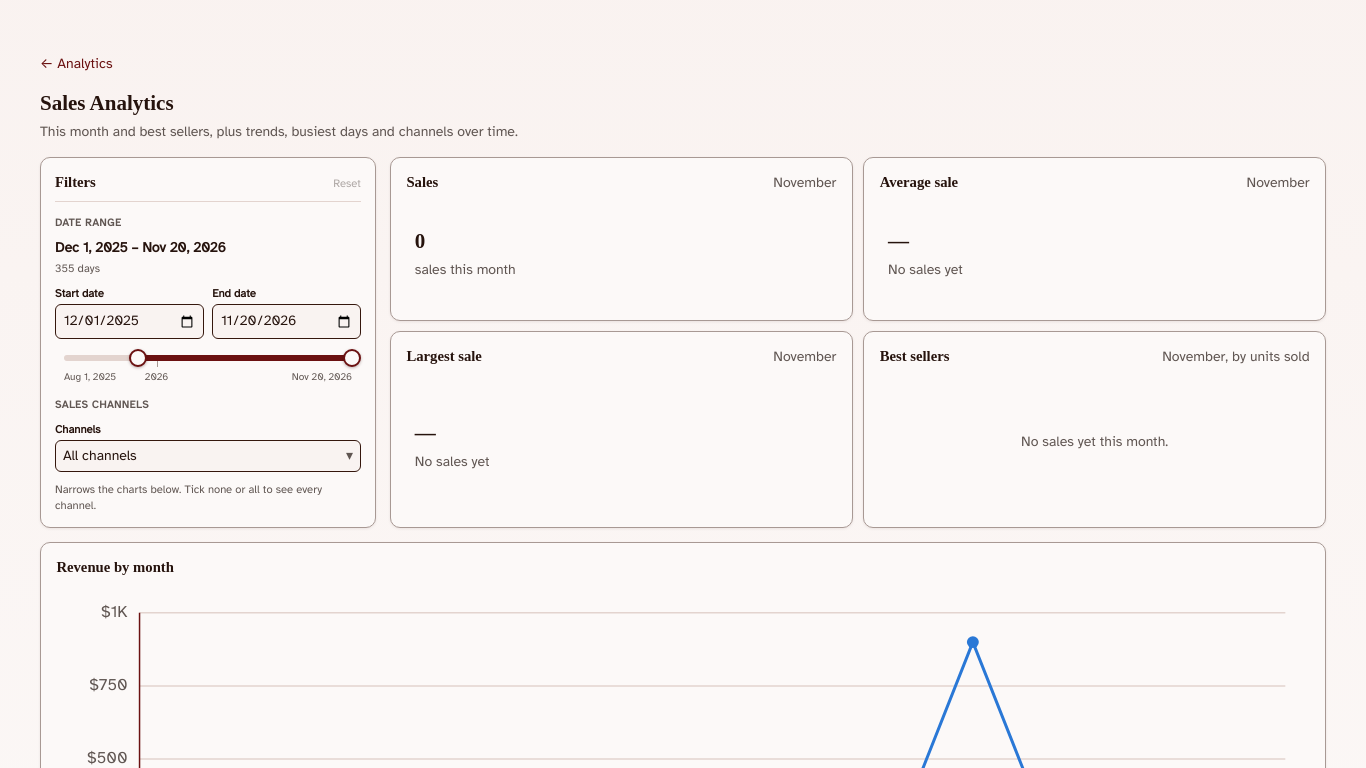
Test: SalesAnalyticsPage charts › channel filter › narrows every chart to the ticked channels, and Reset unticks them
This screenshot has width=1366, height=768.
Step 1. Click the button named "Channels All channels" → (100, 456), box [55,440,361,472]
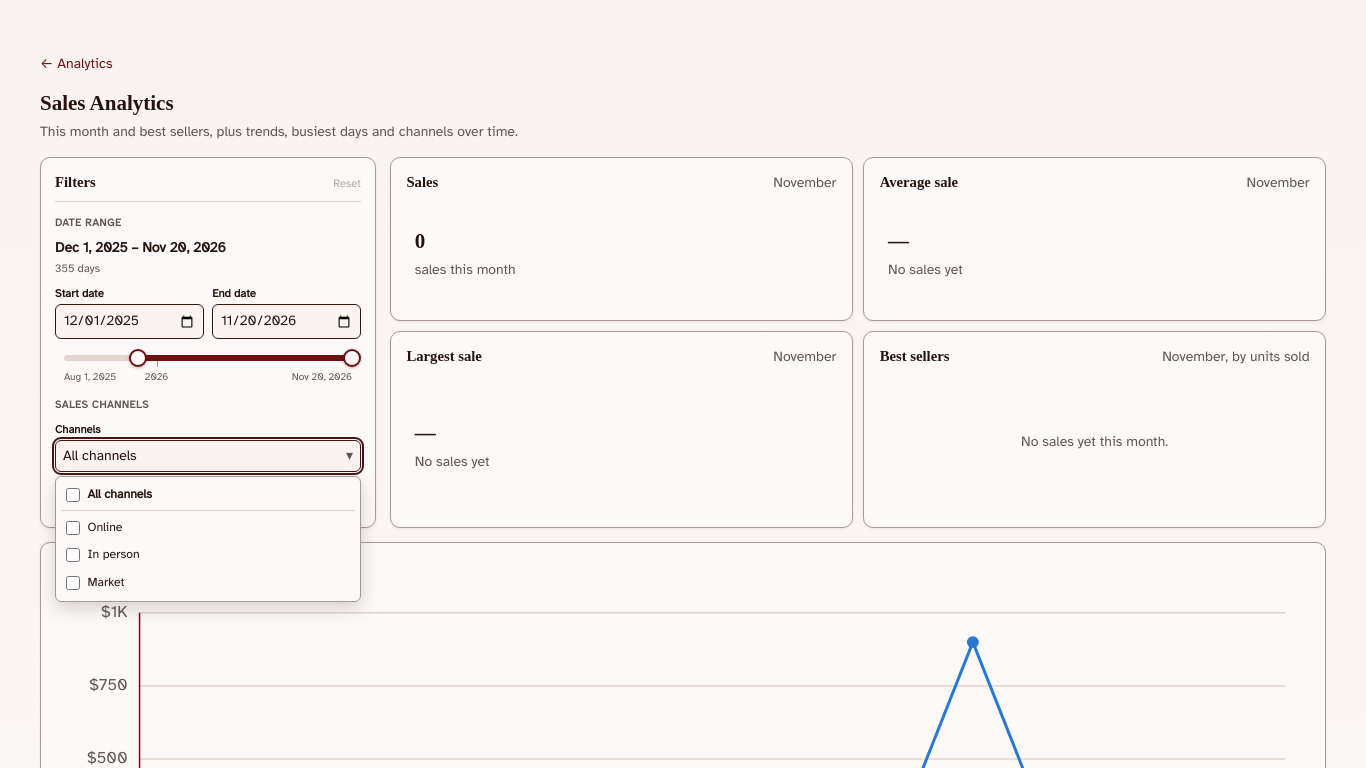
Step 2. Click the checkbox labelled "Online" → (74, 528), box [66,520,80,534]
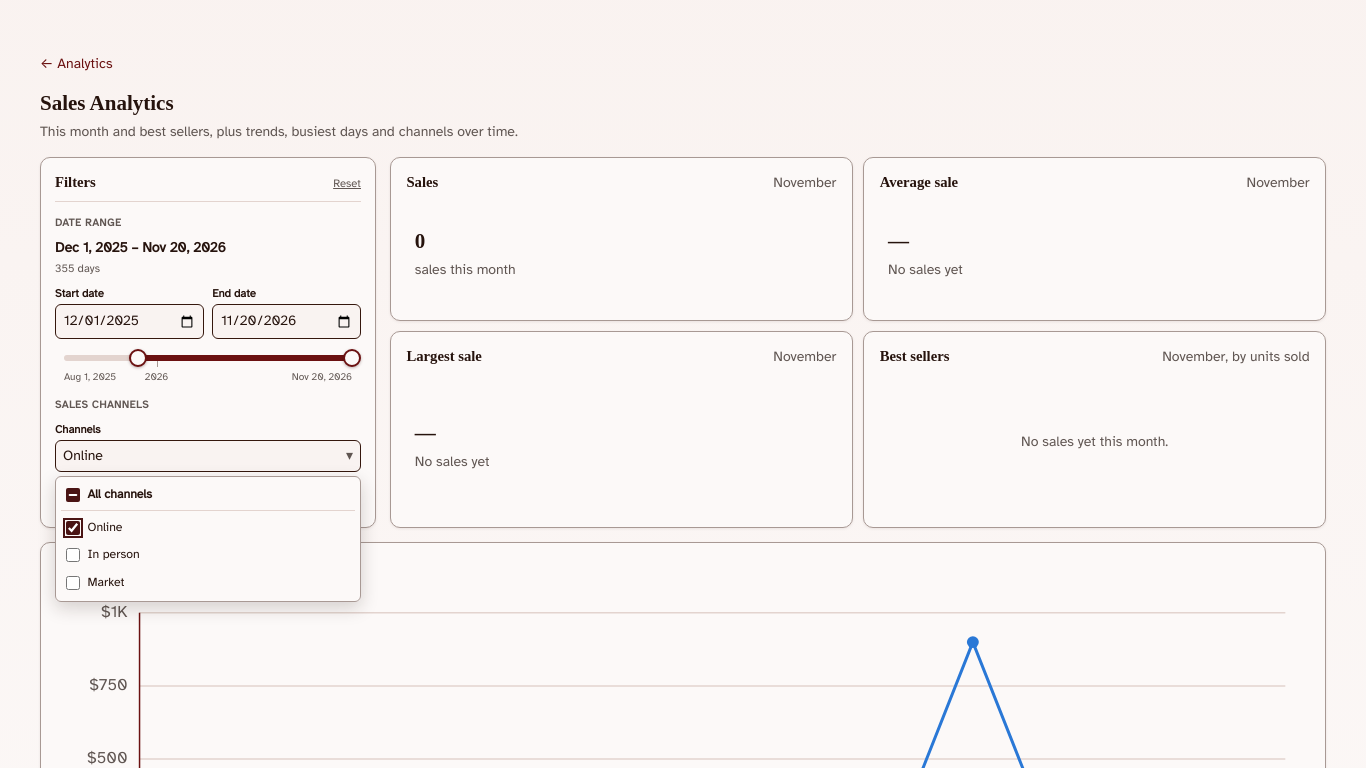
Step 3. Click the checkbox labelled "In person" → (74, 555), box [66,548,80,562]
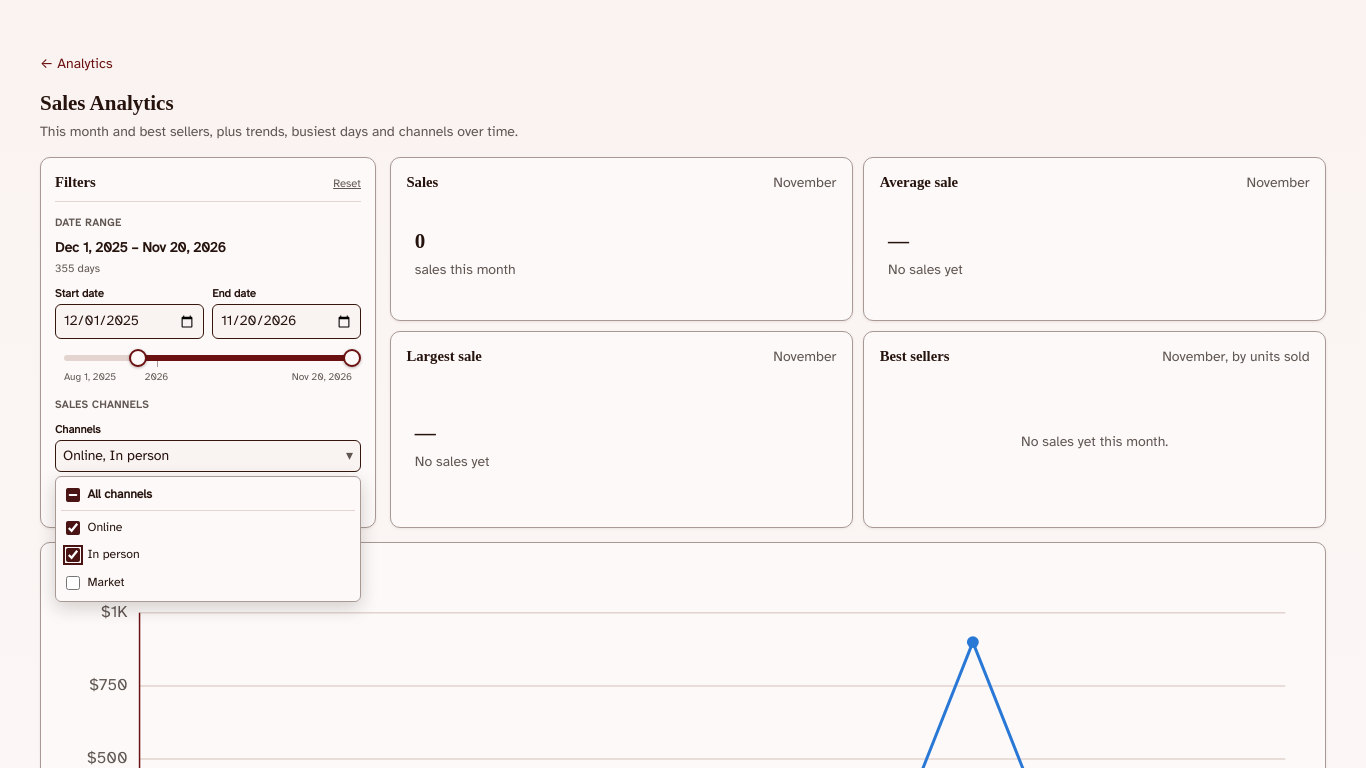
Step 4. Click the button "Reset" → (347, 183), box [333,174,361,191]
(page scrolled)
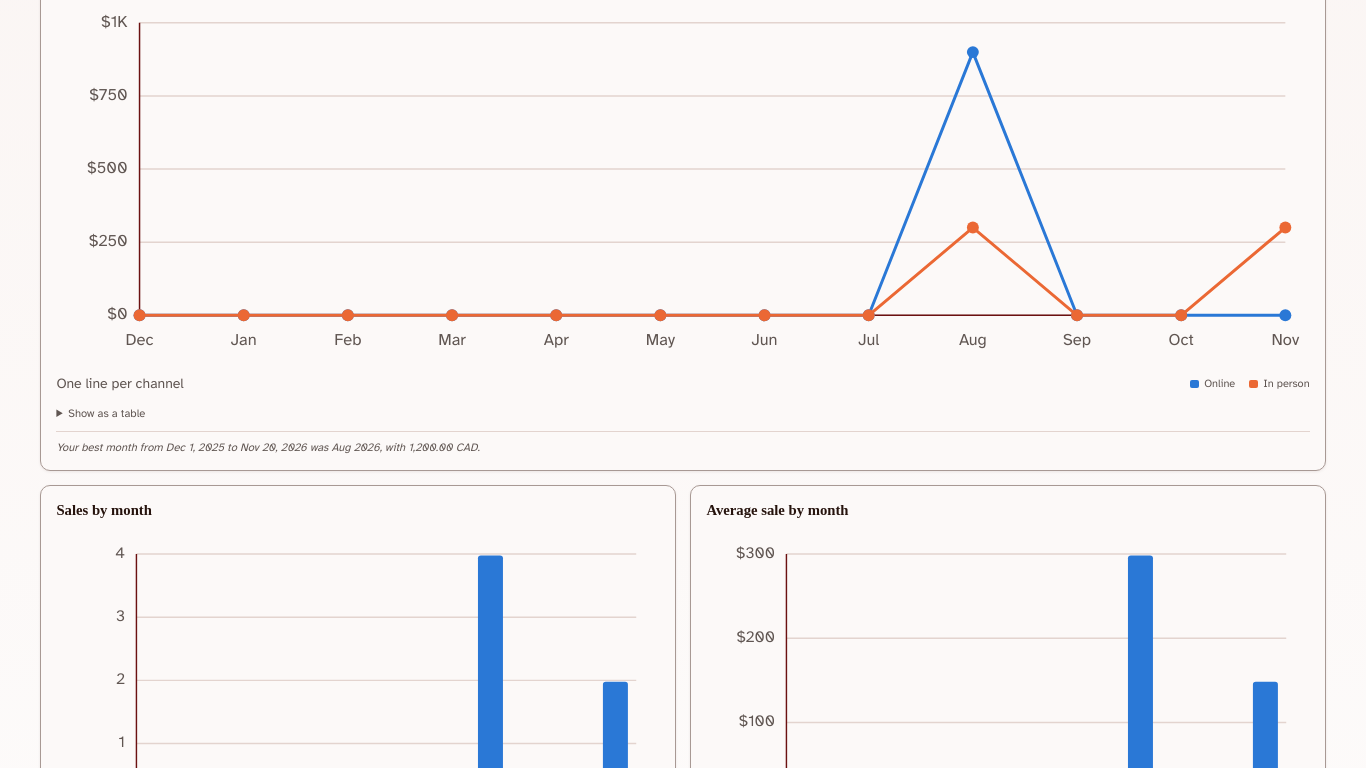
Expected: the text "One line per channel" is shown, [56,374,184,394]
